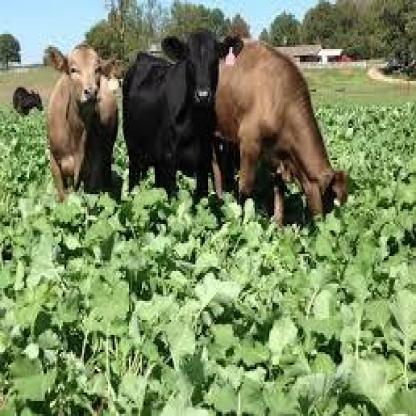cow: (213, 41, 347, 226), (121, 31, 243, 204), (47, 41, 119, 200), (12, 84, 44, 118)
